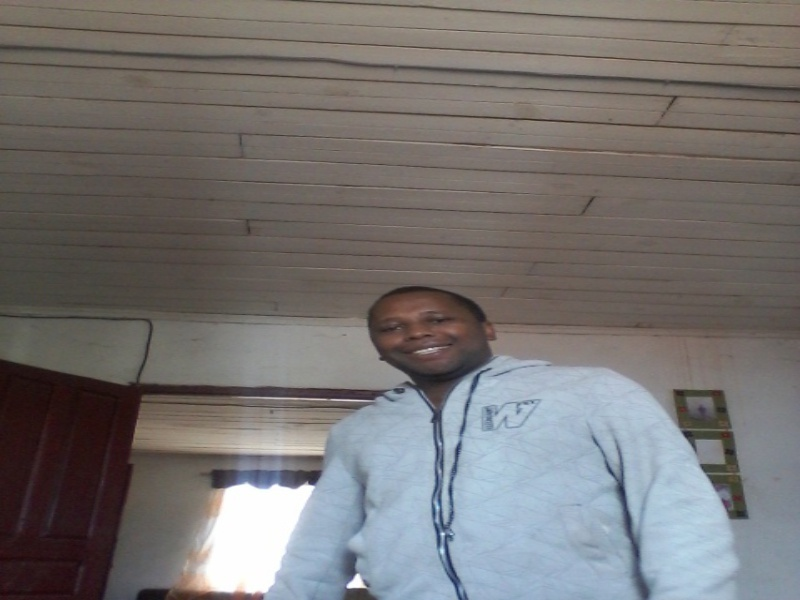TsisyArotava: (355, 277, 489, 385)
